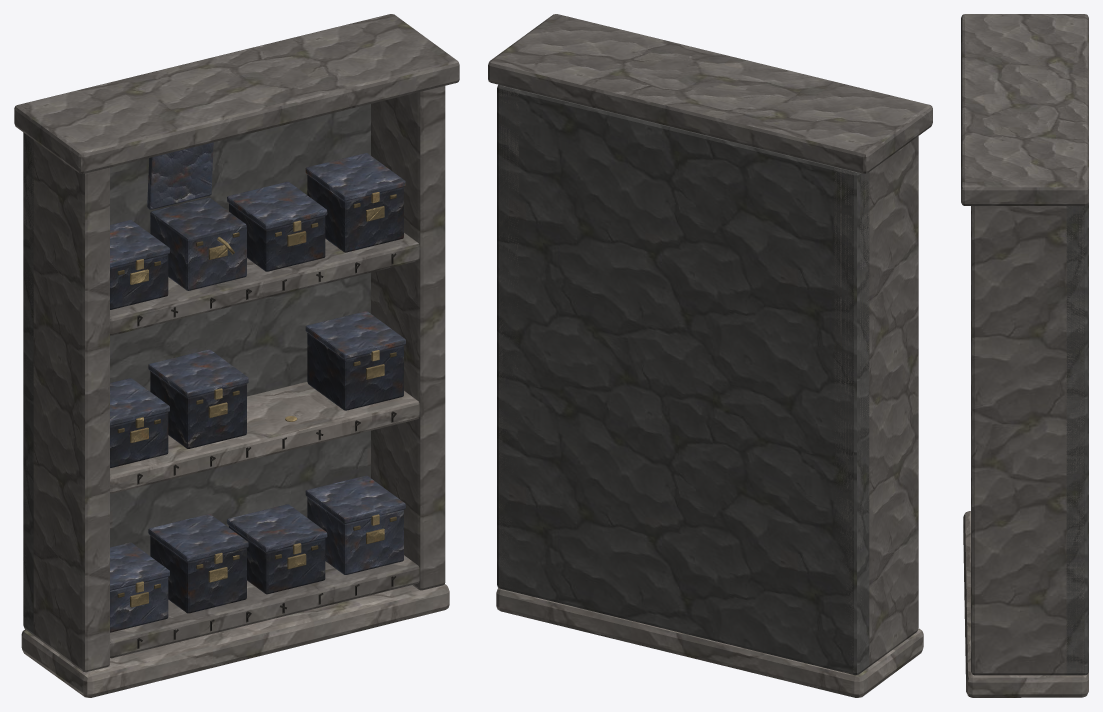
Rendered from bv_lockbox_shelf.glb.
3 renders of one model, left to right at view 1: azimuth 30°, elevation 25°; view 2: azimuth 150°, elevation 25°; view 3: azimuth 270°, elevation 25°, orthographic. The views are drawn at different scales.
Visible parts, largest first — view 1: model; view 2: model; view 3: model.
Part boxes in pixels (x1,y1,x2,y2): model: (14, 14, 459, 697); model: (488, 14, 932, 697); model: (961, 14, 1088, 697).
Size of the model in its own units: 1.26 by 1.74 by 0.39.
Materials: 10 (9 with a texture image).
